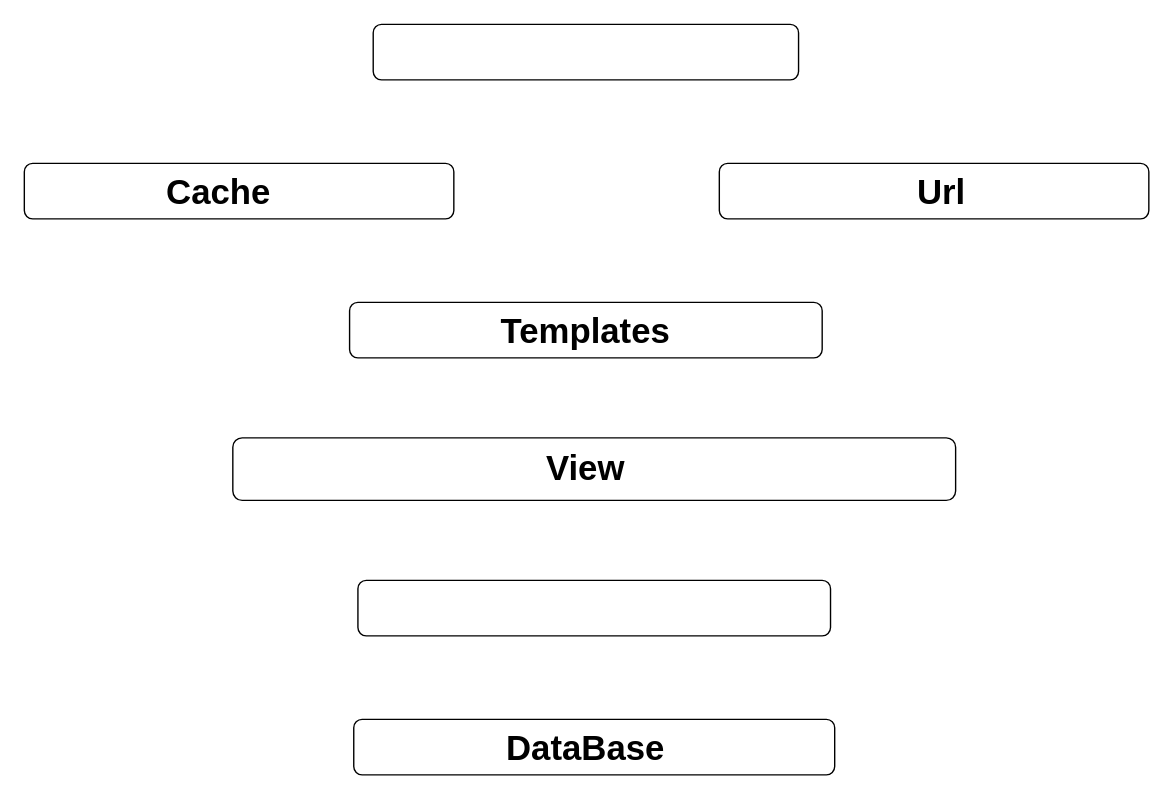
The diagram is 1173 pixels wide and 799 high, and some of its shapes have lost their labels. The centre of each missing label's shape, as x and y in pixels:
"Browser" belongs at point 585,51.
"Model" belongs at point 594,607.
